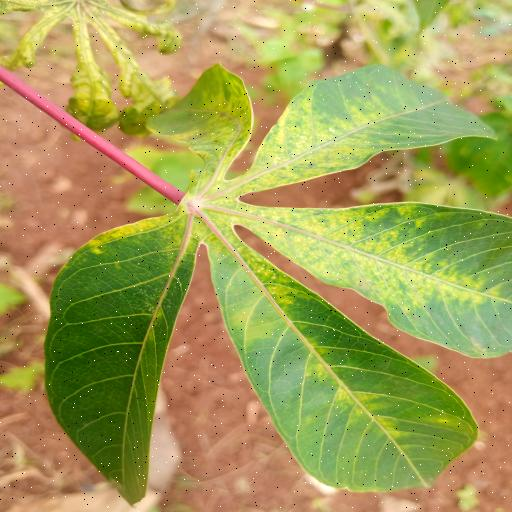Cassava_Mosaic: (46, 59, 512, 503)
